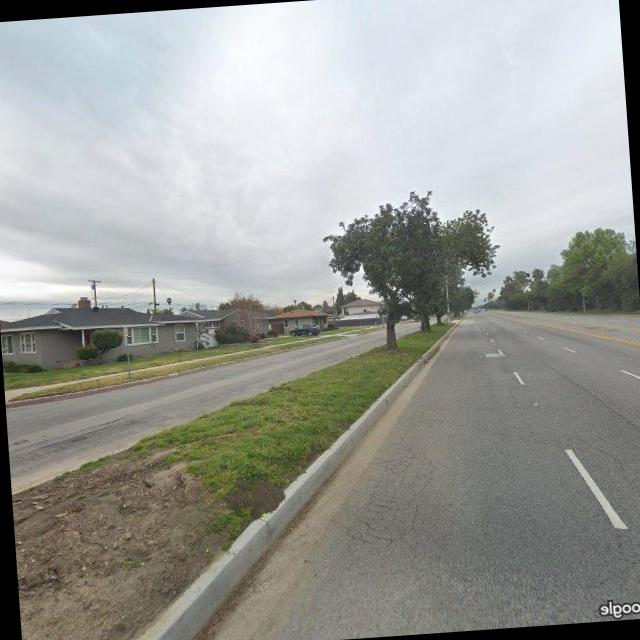crack: (335, 422, 444, 553)
